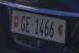1: (34, 17, 39, 35)
4: (39, 18, 44, 36)
6: (49, 21, 55, 39), (44, 19, 49, 37)
E: (25, 15, 31, 33)
G: (20, 14, 26, 32)
